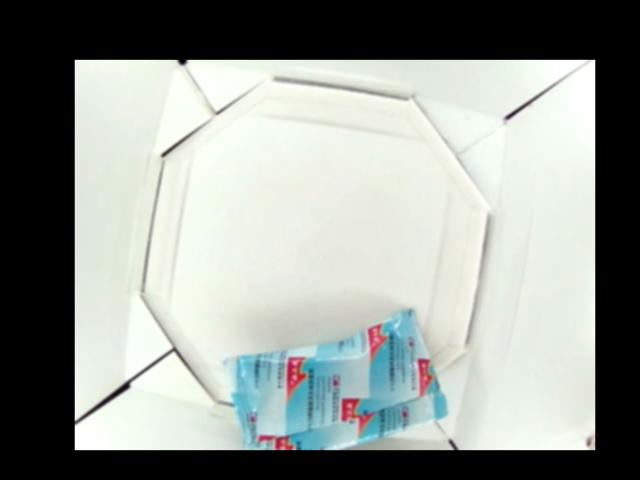Medicine: (222, 302, 446, 450)
